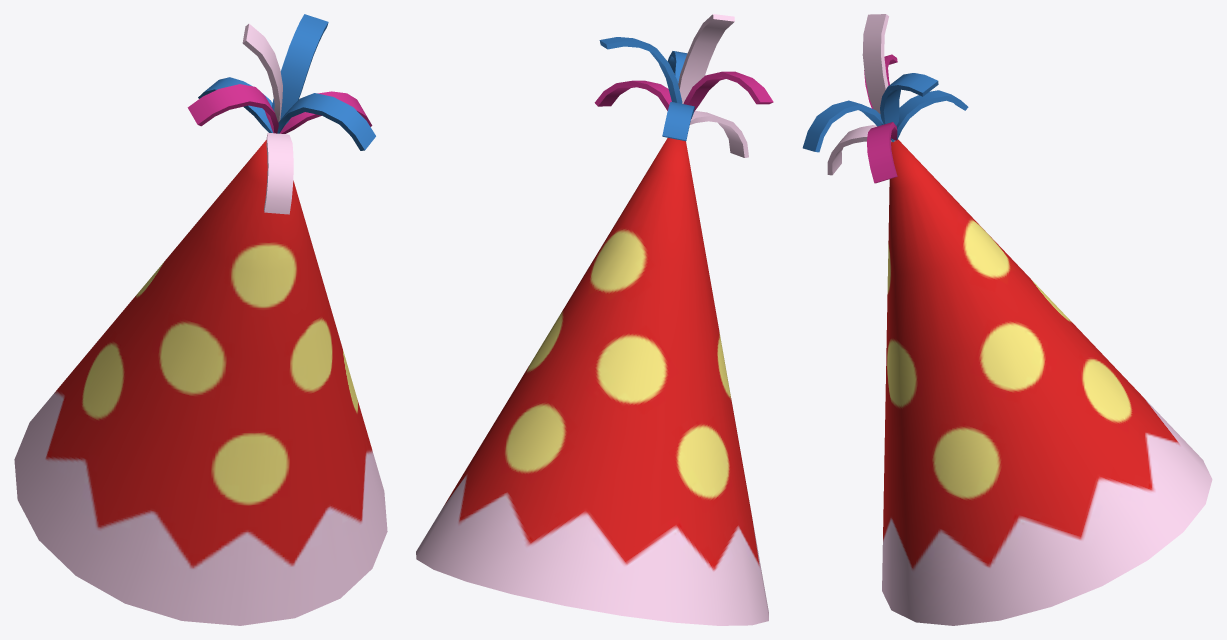
The model's file is hat_pm0033_00_nidorino_pokemonday2020.fbx.
The picture shows the model from 3 angles, left to right: view 1: azimuth 30°, elevation 25°; view 2: azimuth 150°, elevation 25°; view 3: azimuth 270°, elevation 25°; orthographic projection. The views are drawn at different scales.
Parts seen in each view (by area): view 1: hat_pm0033_00_nidorino_pokemonday2020; view 2: hat_pm0033_00_nidorino_pokemonday2020; view 3: hat_pm0033_00_nidorino_pokemonday2020.
Boxes of the visible parts, x1,y1,x2,y2 form: hat_pm0033_00_nidorino_pokemonday2020: (14,14,387,625); hat_pm0033_00_nidorino_pokemonday2020: (416,14,773,625); hat_pm0033_00_nidorino_pokemonday2020: (802,14,1212,625).
Size of the model in its own units: 0.1543 by 0.2704 by 0.1803.
